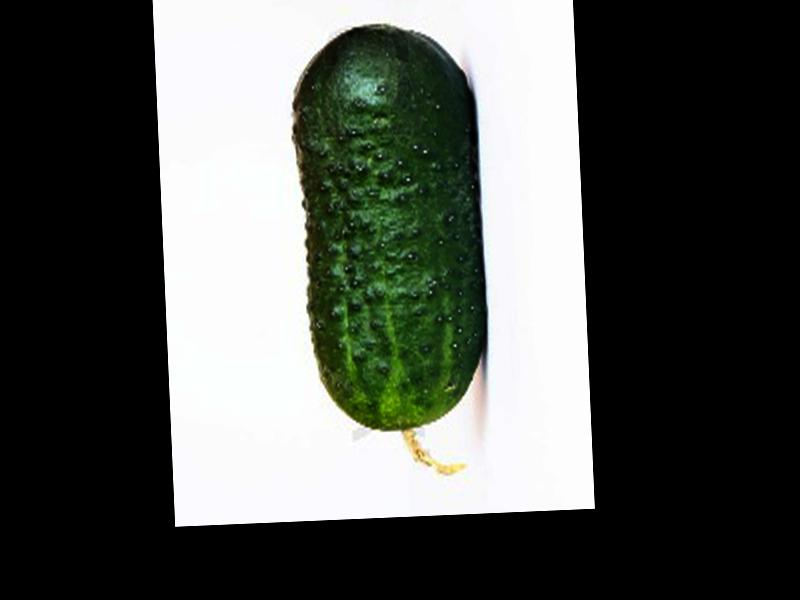Cucumber: (285, 22, 493, 482)
